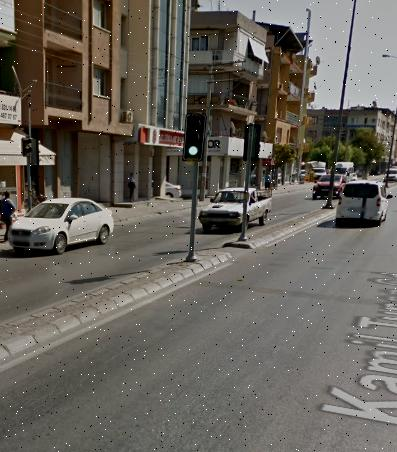greenlight: (186, 114, 201, 157)
